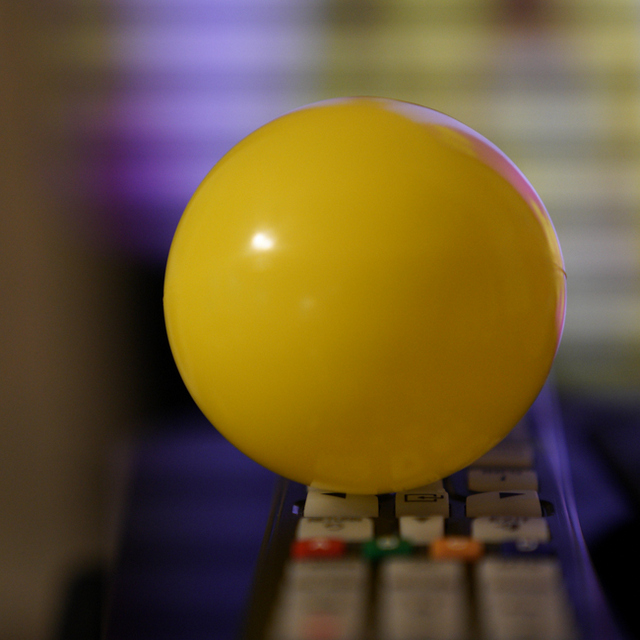Ball: (156, 97, 575, 488)
